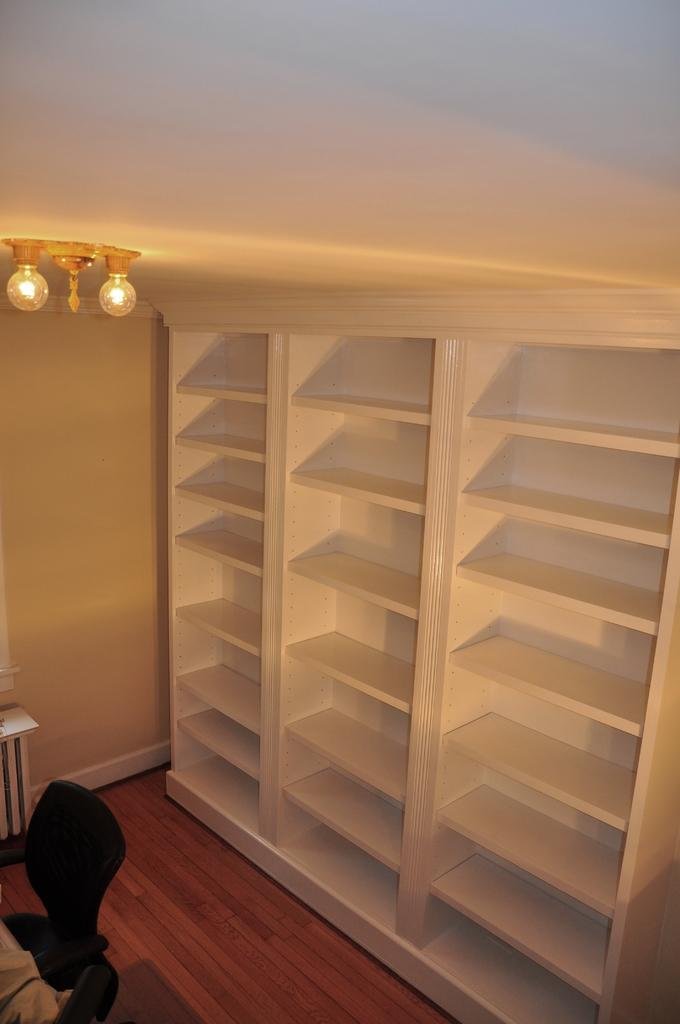Chair: (0, 778, 126, 1023)
